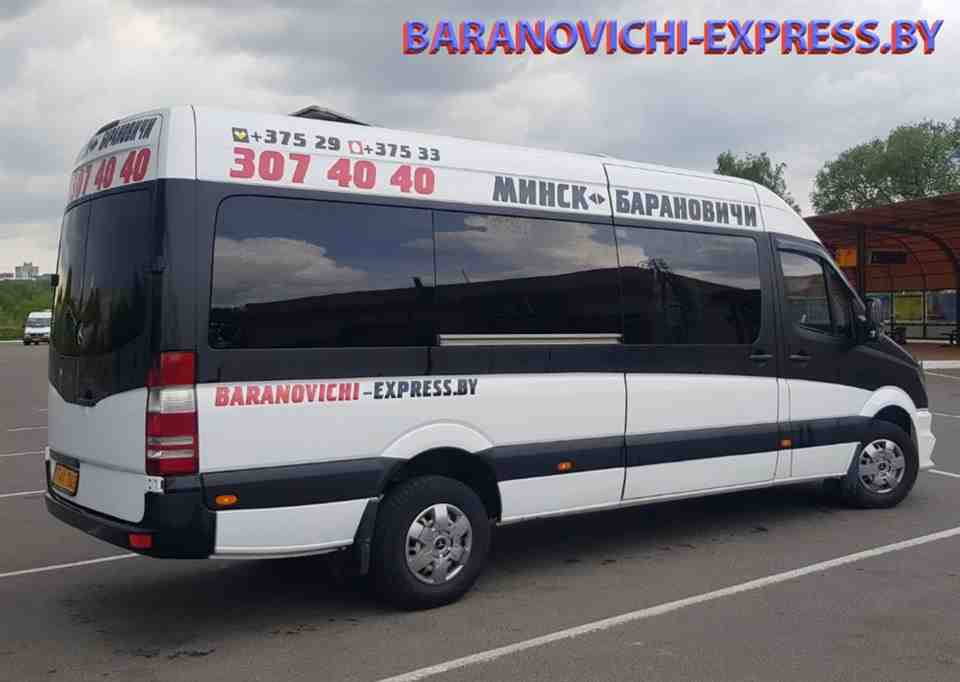van: (41, 104, 939, 620)
